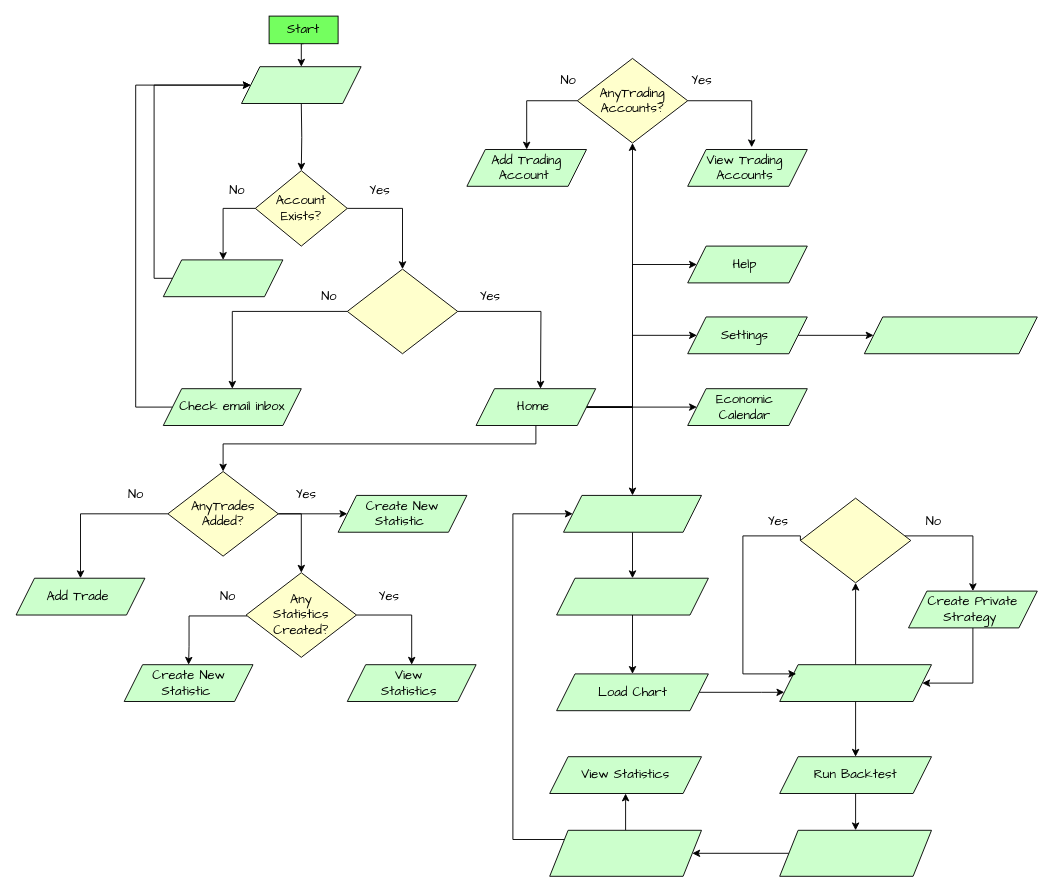
The diagram is 1053 pixels wide and 892 high, and some of its shapes have lost their labels. The centre of each missing label's shape, as x and y in pixels:
Any Private Strategies?: (x=855, y=540)
Email Verified?: (x=402, y=311)
Login: (x=301, y=85)
New Backtesting Session: (x=632, y=513)
Register: (x=222, y=278)
Save Session and Generate Statistic: (x=625, y=852)
Select Parameters for Backtesting: (x=855, y=683)
Select Parameters toLoading Chart: (x=632, y=596)
Update User Profile or Change Password: (x=950, y=335)
View Metrics and Trades on Chart: (x=855, y=852)
